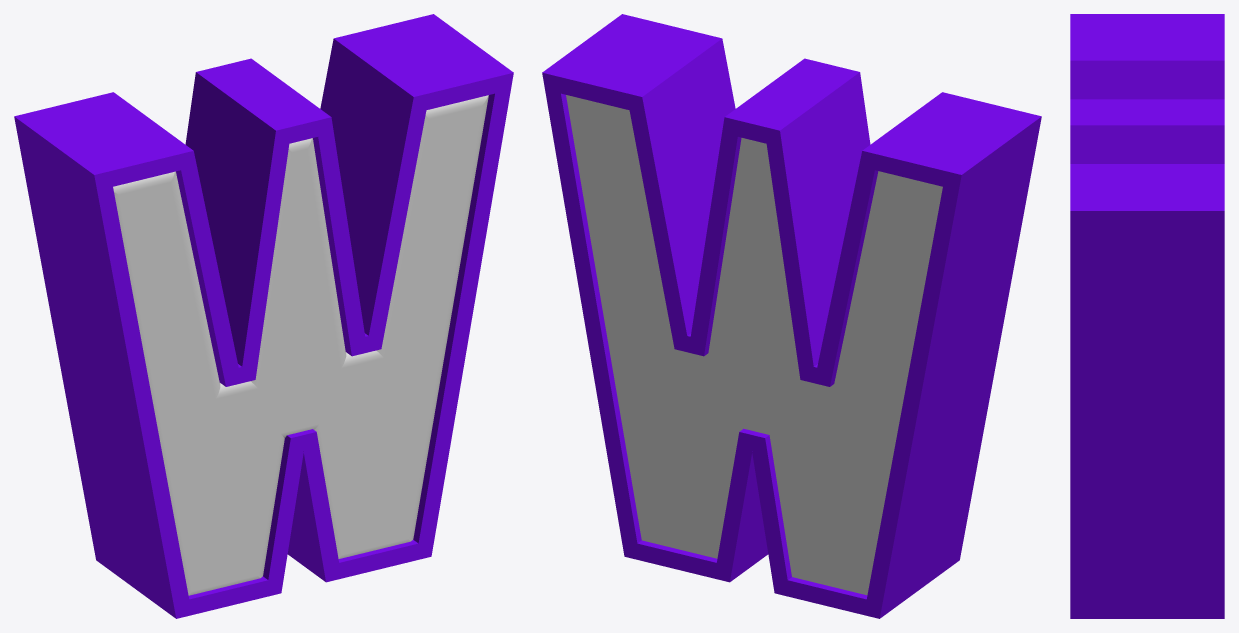
The picture shows the model from 3 angles, left to right: view 1: azimuth 30°, elevation 25°; view 2: azimuth 150°, elevation 25°; view 3: azimuth 270°, elevation 25°; orthographic projection. The views are drawn at different scales.
Visible parts, largest first — view 1: Extrusion Model.000, Extrusion Model; view 2: Extrusion Model.000, Extrusion Model; view 3: Extrusion Model.000.
Part boxes in pixels (x1=…): Extrusion Model.000: x1=14, y1=14, x2=513, y2=618; Extrusion Model: x1=113, y1=95, x2=488, y2=595; Extrusion Model.000: x1=542, y1=14, x2=1041, y2=618; Extrusion Model: x1=566, y1=95, x2=942, y2=595; Extrusion Model.000: x1=1070, y1=14, x2=1224, y2=618.
Size of the model in its own units: 14.41 by 15.22 by 4.77.
